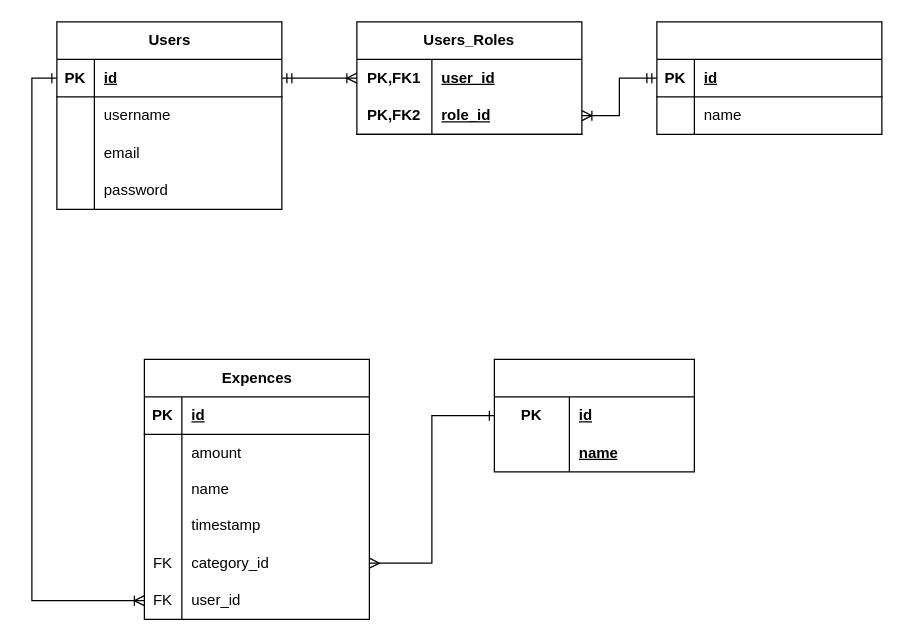
Some shapes in this 904 by 641 pixel diagram are drawn without their labels. The box of each missing label's shape, as (x1, y1, x2, y2) in pixels:
Category: (493, 358, 694, 472)
Roles: (656, 21, 882, 134)
